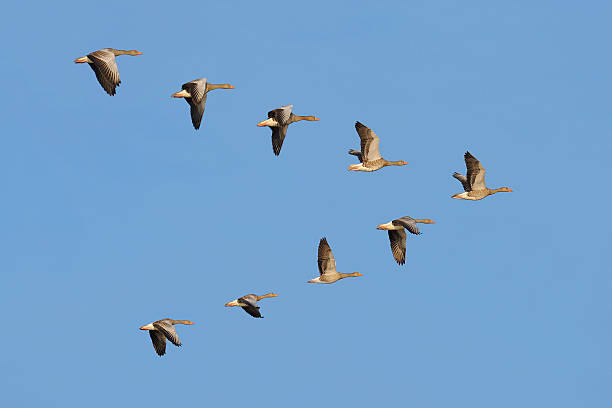Bird: (340, 116, 410, 173), (73, 44, 145, 99), (167, 73, 236, 129), (258, 99, 321, 158), (451, 148, 516, 202), (374, 214, 435, 265), (309, 232, 364, 288), (138, 313, 195, 357), (225, 288, 279, 319)
